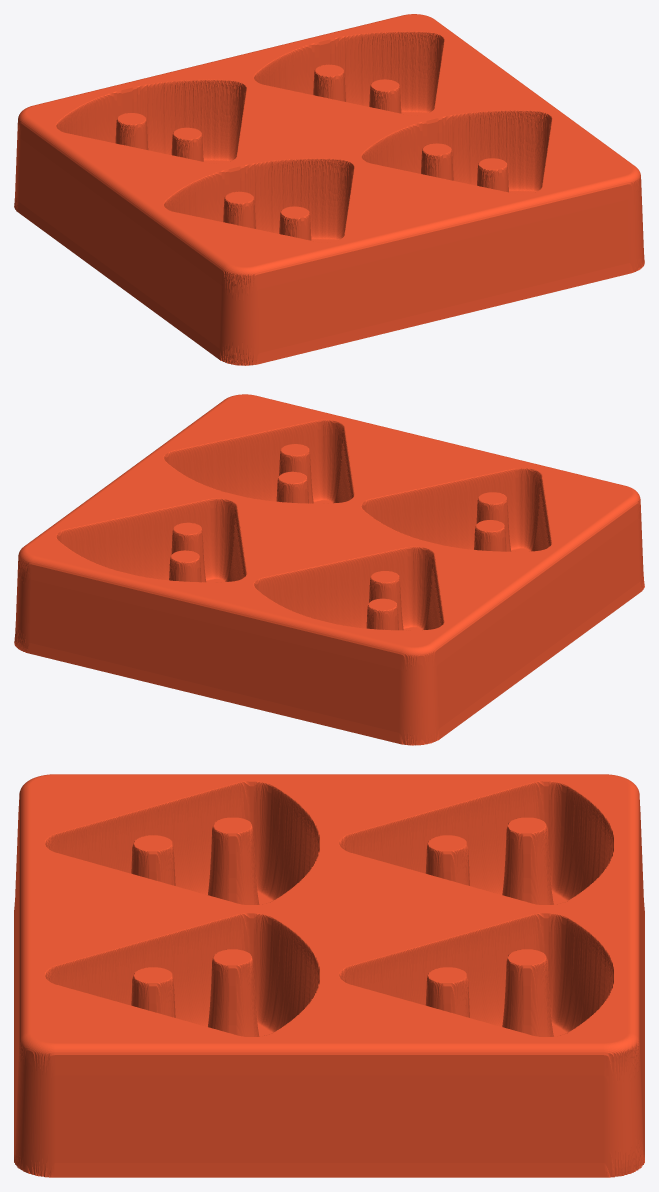
Rendered from mold.glb.
3 renders of one model, top to bottom at view 1: azimuth 30°, elevation 25°; view 2: azimuth 150°, elevation 25°; view 3: azimuth 270°, elevation 25°, orthographic. The views are drawn at different scales.
Visible parts, largest first — view 1: geometry_0; view 2: geometry_0; view 3: geometry_0.
Part boxes in pixels (x1=…): geometry_0: x1=14, y1=14, x2=644, y2=365; geometry_0: x1=14, y1=394, x2=644, y2=745; geometry_0: x1=14, y1=774, x2=644, y2=1177.
Size of the model in its own units: 0.1466 by 0.031 by 0.1388.
